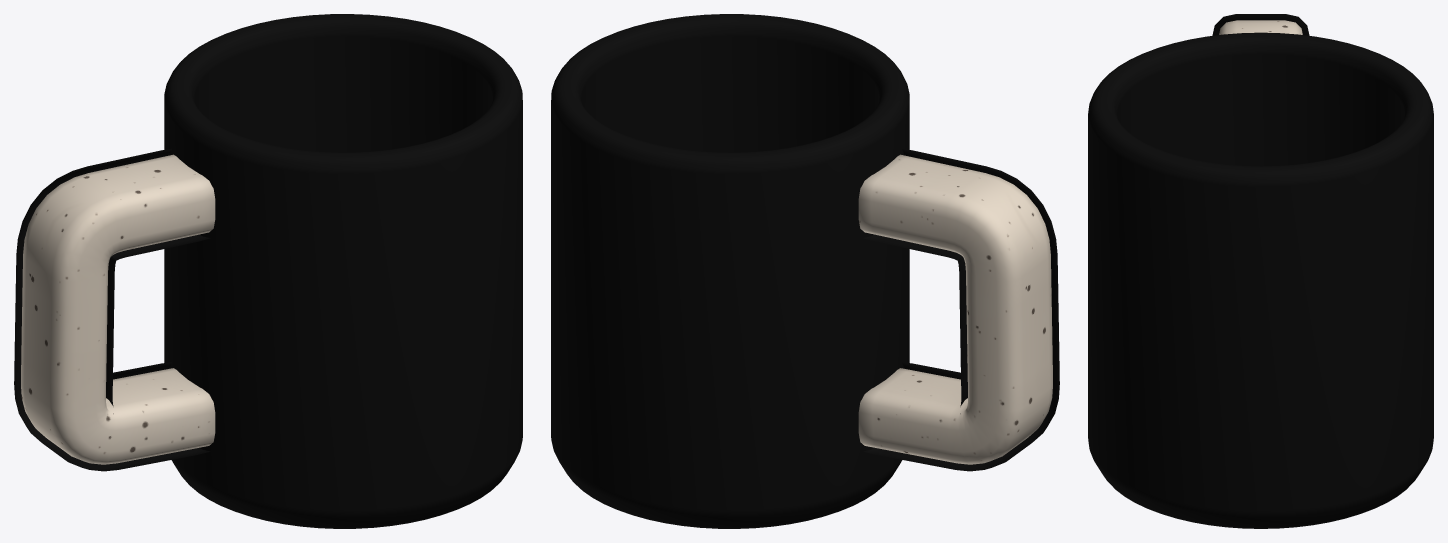
Rendered from Mug_Empty.fbx.
3 renders of one model, left to right at view 1: azimuth 30°, elevation 25°; view 2: azimuth 150°, elevation 25°; view 3: azimuth 270°, elevation 25°, orthographic. The views are drawn at different scales.
Parts seen in each view (by area): view 1: Mug_Empty; view 2: Mug_Empty; view 3: Mug_Empty.
Boxes of the visible parts, x1,y1,x2,y2 form: Mug_Empty: (14, 14, 522, 528); Mug_Empty: (551, 14, 1059, 528); Mug_Empty: (1088, 14, 1433, 528).
Size of the model in its own units: 0.1282 by 0.0982 by 0.0852.
1 material, 1 textured.
